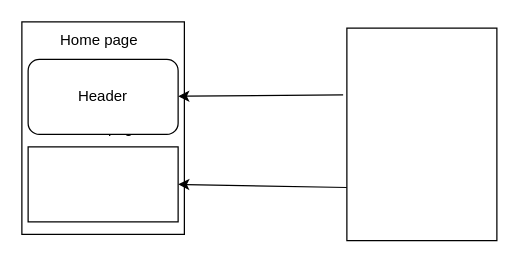
The diagram is 519 pixels wide and 263 high, and some of its shapes have lost their labels. The box of each missing label's shape, as (x1, y1, x2, y2) in pixels:
Footer: (27, 146, 178, 222)
PDP: (346, 27, 497, 241)
